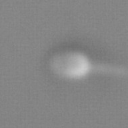normal: (91, 59, 128, 81)
